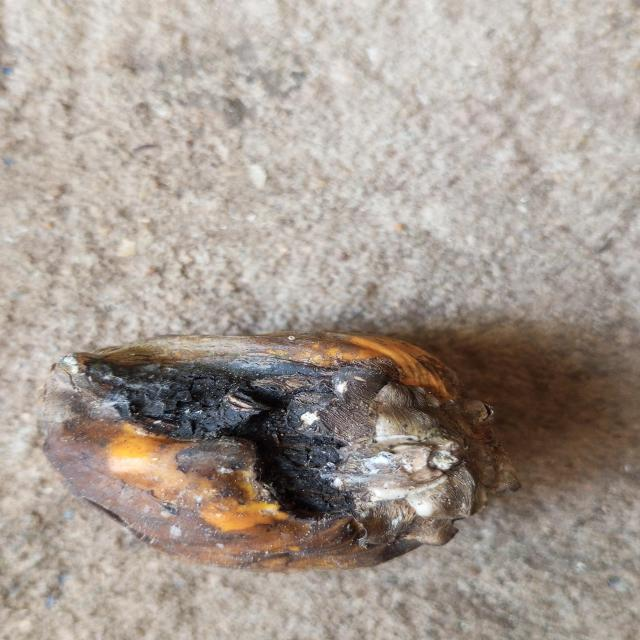damaged: (42, 332, 518, 576)
